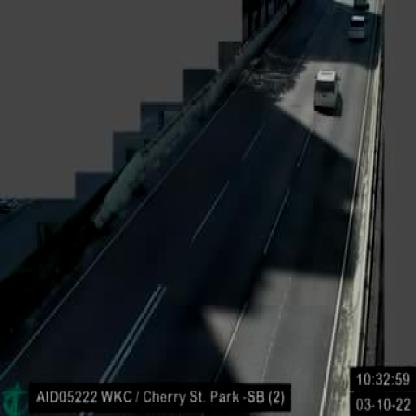Car: (313, 68, 338, 111), (346, 14, 365, 41)
